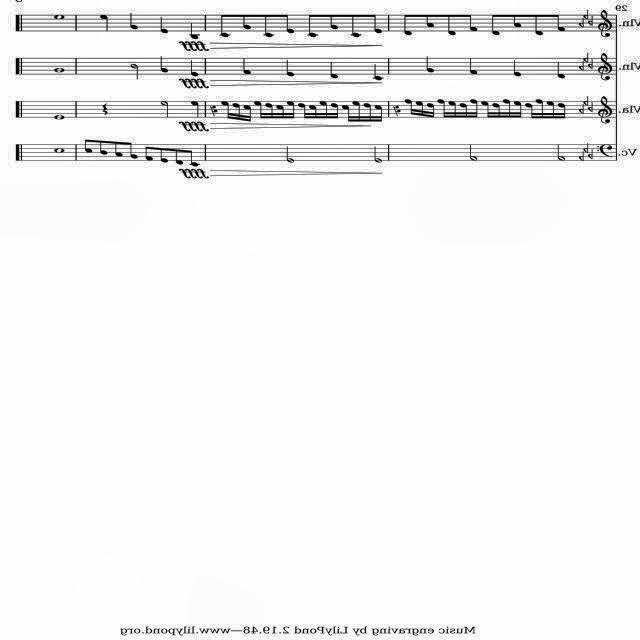Bass-clef: (596, 52, 612, 82), (597, 96, 613, 124), (598, 9, 612, 37)
Bemol: (578, 17, 584, 28), (587, 59, 593, 70), (587, 101, 593, 112), (583, 95, 589, 106), (579, 104, 585, 115), (587, 15, 593, 25), (583, 9, 589, 19), (583, 53, 589, 63), (579, 61, 585, 71), (587, 149, 593, 159), (578, 151, 584, 161), (584, 143, 588, 153)
Eighth-note: (284, 14, 296, 34), (220, 14, 230, 38), (351, 15, 361, 38), (307, 15, 317, 38), (264, 15, 274, 38), (373, 14, 383, 34), (448, 14, 457, 36), (128, 141, 138, 159), (492, 14, 500, 36), (404, 14, 412, 36), (189, 150, 199, 167), (174, 148, 183, 166), (556, 15, 566, 31), (536, 14, 544, 34), (468, 15, 478, 31), (241, 15, 251, 30), (329, 15, 338, 30), (160, 148, 168, 164), (144, 146, 152, 162), (114, 141, 122, 157), (86, 138, 94, 154), (100, 140, 108, 154), (514, 15, 522, 28), (426, 15, 434, 28)
Full-note: (54, 14, 64, 20), (54, 148, 66, 152), (54, 68, 66, 72), (54, 115, 64, 119)
Half-note: (556, 144, 566, 160), (469, 144, 479, 160), (373, 146, 383, 162), (129, 64, 139, 80), (286, 146, 294, 162), (160, 102, 168, 118)
Quarter-note: (190, 102, 200, 118), (242, 58, 252, 74), (100, 14, 108, 32), (130, 12, 138, 30), (190, 22, 198, 40), (329, 62, 338, 78), (373, 64, 382, 80), (469, 58, 478, 74), (160, 15, 168, 32), (190, 60, 198, 76), (160, 56, 168, 72), (286, 60, 294, 76), (426, 56, 434, 72), (514, 60, 522, 76), (557, 62, 565, 78)
Quarter-rest: (102, 102, 108, 116)
Sixteenth-note: (220, 101, 232, 122), (254, 100, 266, 120), (232, 102, 244, 122), (352, 101, 362, 123), (318, 100, 329, 120), (404, 99, 416, 117), (297, 103, 309, 121), (546, 100, 556, 120), (534, 99, 544, 119), (438, 98, 448, 118), (286, 100, 296, 120), (481, 101, 492, 119), (449, 101, 459, 119), (363, 102, 372, 122), (342, 105, 352, 123), (265, 103, 275, 121), (502, 99, 511, 118), (525, 102, 535, 118), (492, 102, 502, 118), (459, 102, 469, 118), (470, 99, 478, 118), (244, 105, 252, 123), (558, 103, 566, 119), (514, 102, 522, 118), (427, 103, 435, 119), (416, 101, 424, 117), (374, 106, 382, 122), (330, 104, 338, 120), (310, 104, 318, 120), (276, 104, 284, 120)
